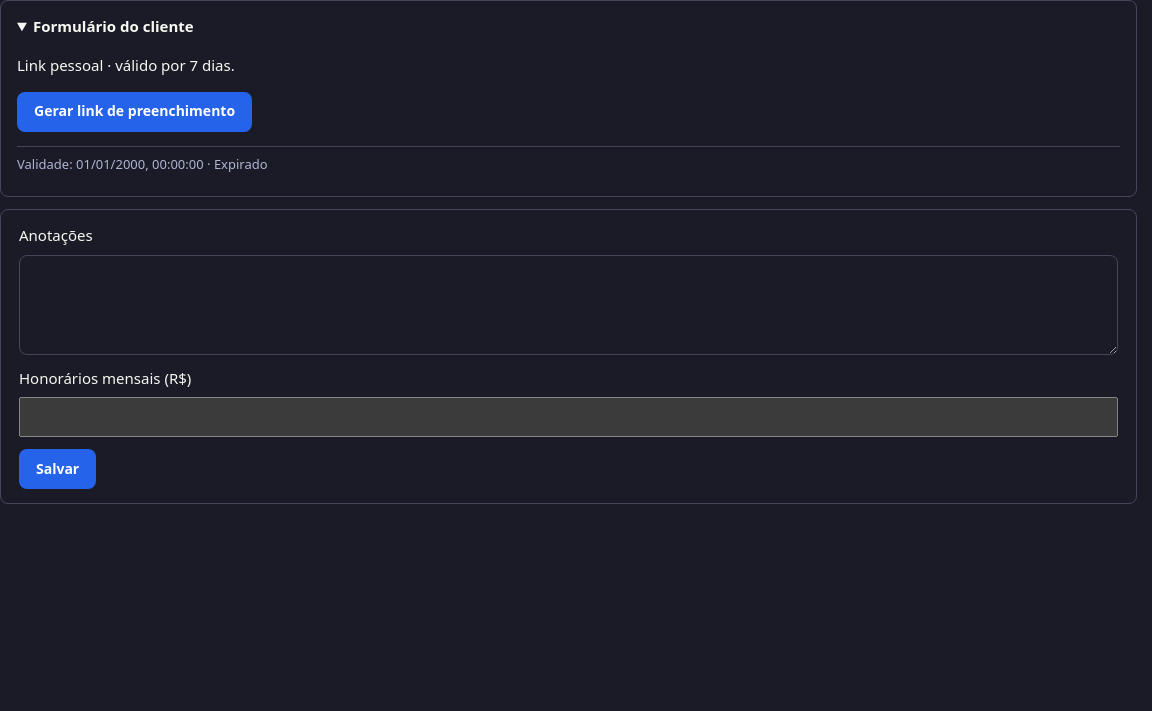
Test case: geração atualiza links sem perder token ou proposta; vencido aparece expirado
The width and height of the screenshot is (1152, 711).
Expected: the list item "Validade: 01/01/2000, 00:00:00 · Expirado" is shown, x1=17 y1=146 x2=1120 y2=182
Type "Preservar" into the text box labelled "Anotações" at x=568, y=305, box x1=19 y1=255 x2=1118 y2=355
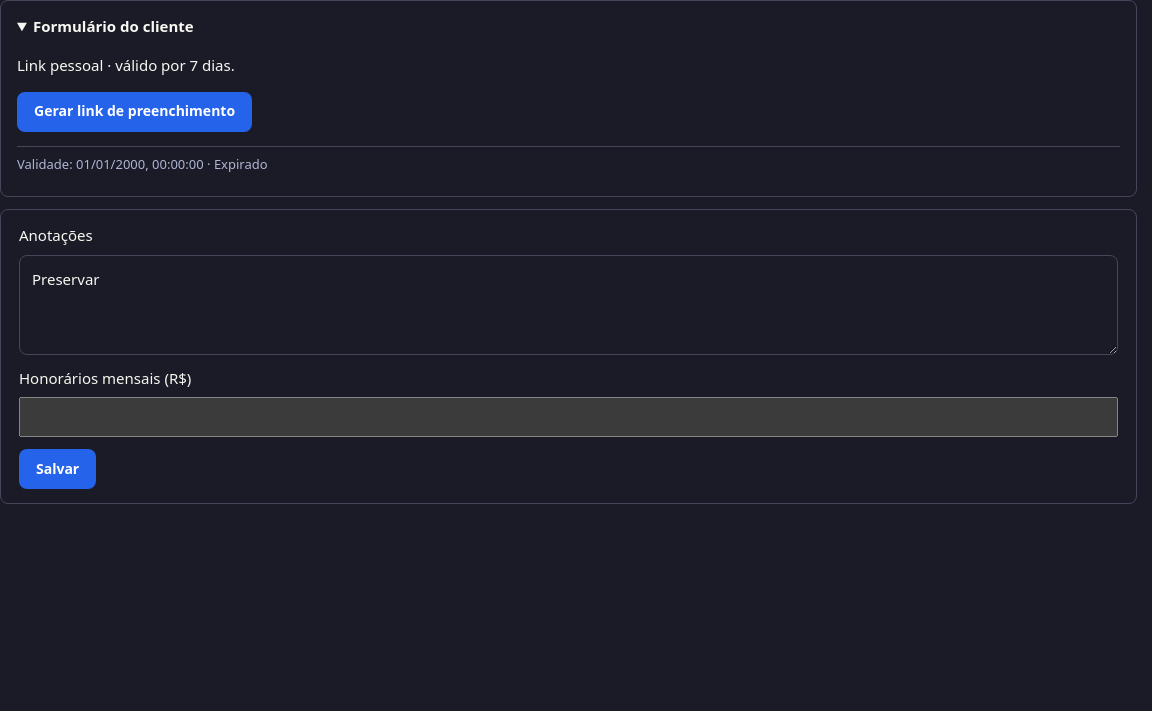
Click the button "Gerar link de preenchimento" at x=135, y=112, box x1=17 y1=92 x2=252 y2=132
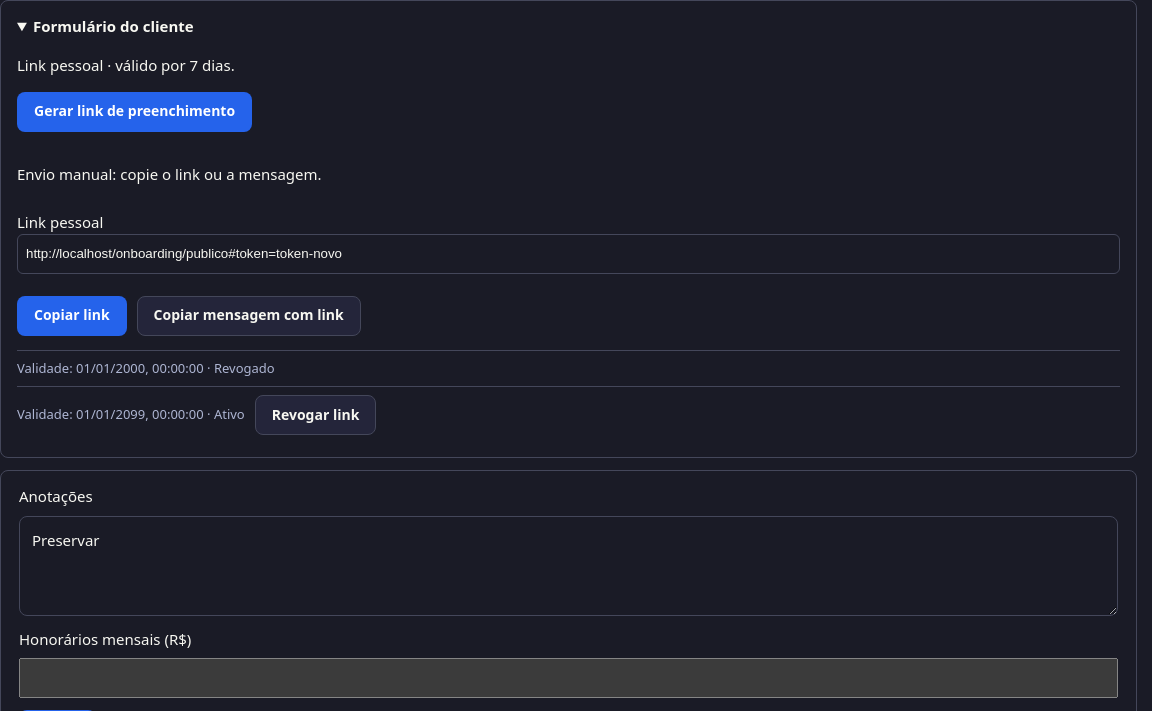
Result: the list item "Validade: 01/01/2000, 00:00:00 · Revogado" is shown at x1=17 y1=350 x2=1120 y2=386
Result: the number of buttons "Revogar link" is 1 at x1=255 y1=395 x2=376 y2=435
